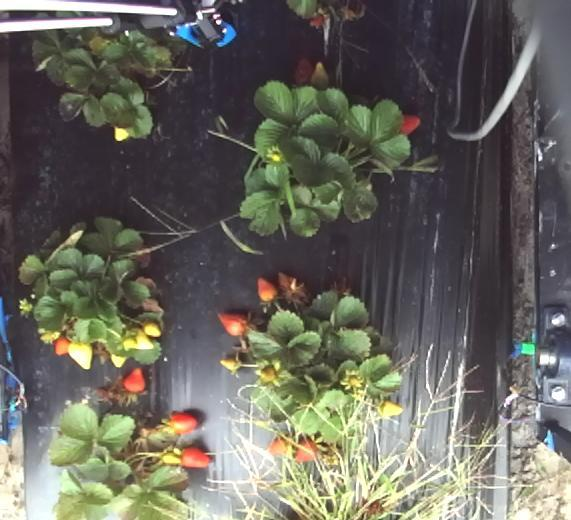mature: (216, 309, 250, 337), (178, 445, 212, 471), (254, 271, 279, 305), (393, 112, 423, 138), (121, 366, 146, 394), (168, 413, 201, 434), (298, 439, 322, 465), (266, 434, 290, 457), (52, 337, 72, 357)
